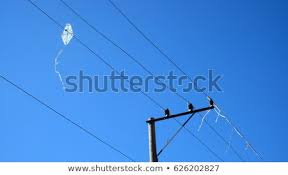kite: (52, 21, 77, 90)
